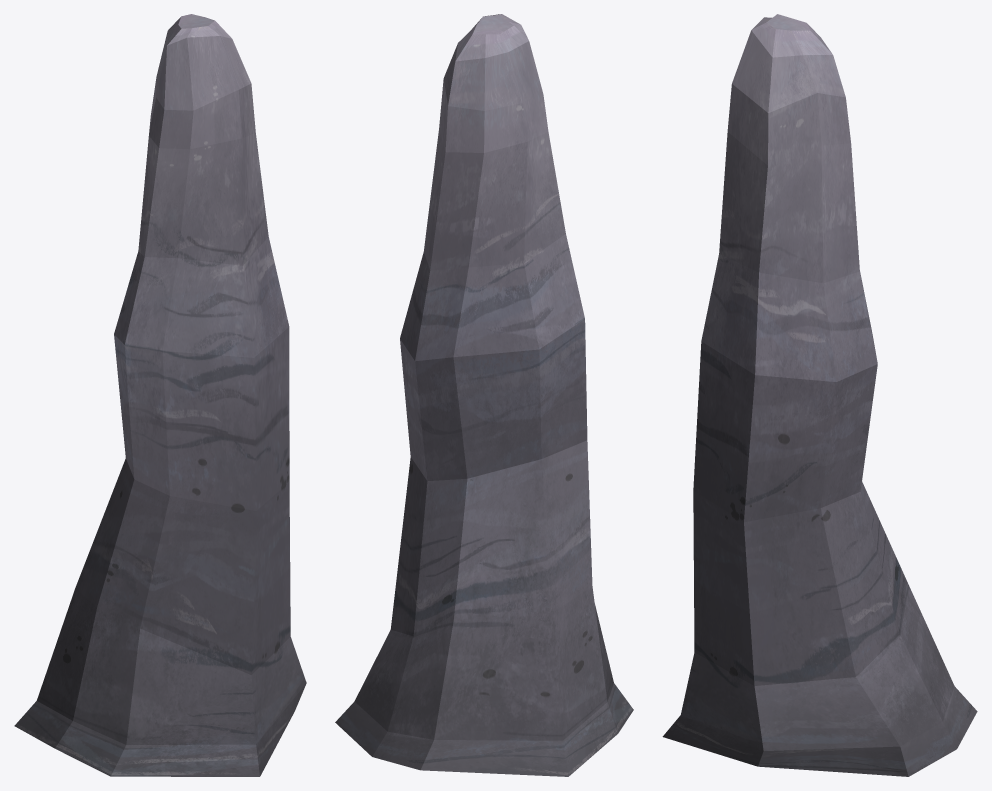
The model's file is spire_1_002.fbx.
3 views of the same model, side by side, from view 1: azimuth 30°, elevation 25°; view 2: azimuth 150°, elevation 25°; view 3: azimuth 270°, elevation 25° (orthographic). The views are drawn at different scales.
Parts seen in each view (by area): view 1: spire 1.002; view 2: spire 1.002; view 3: spire 1.002.
Part boxes in pixels (<box>): spire 1.002: <box>14,14,306,776</box>; spire 1.002: <box>335,14,633,776</box>; spire 1.002: <box>662,14,977,776</box>.
Bounding box in the file's own units: 203 × 584 × 234.
